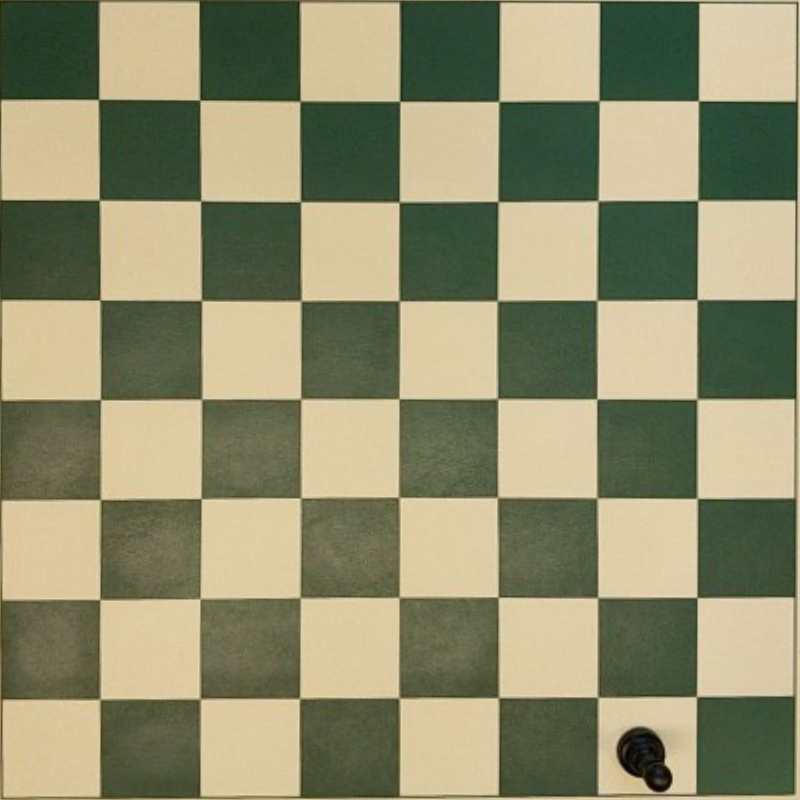black-pawn: (616, 727, 673, 791)
